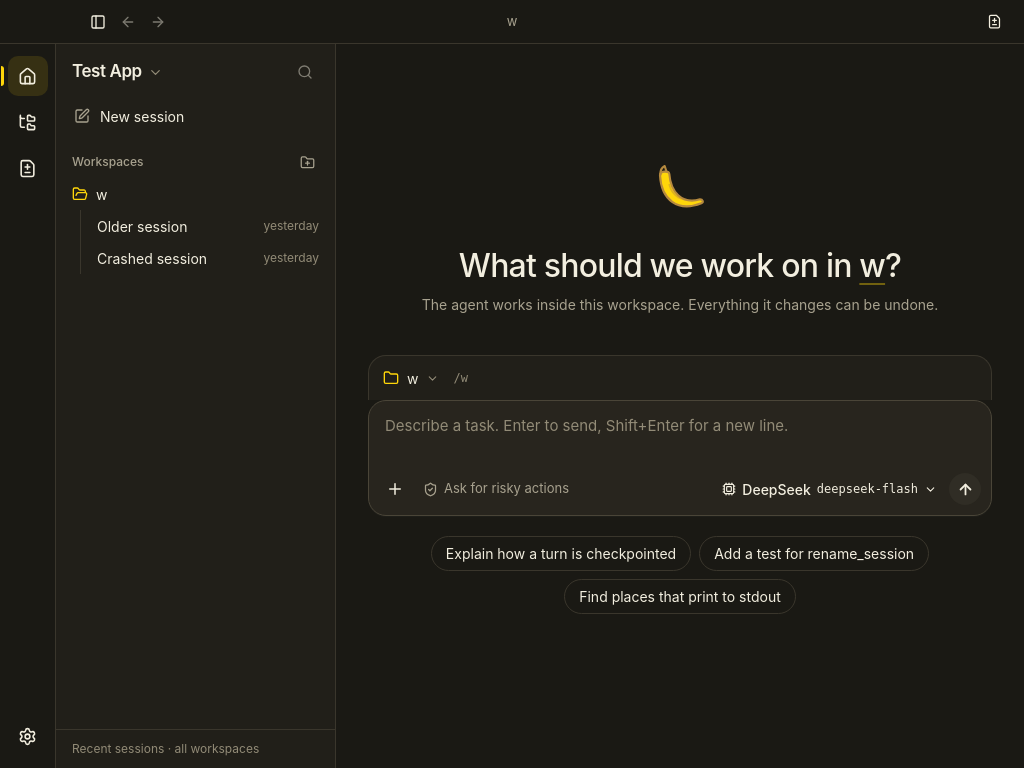
Test case: the first turn from home › a failed turn shows its error, and a 401 adds the hint to switch provider
Check: the text "Older session" is shown, box [97, 218, 187, 234]
Type "hi" into the text box labelled "task". click: x=680, y=435
box: [369, 401, 991, 469]
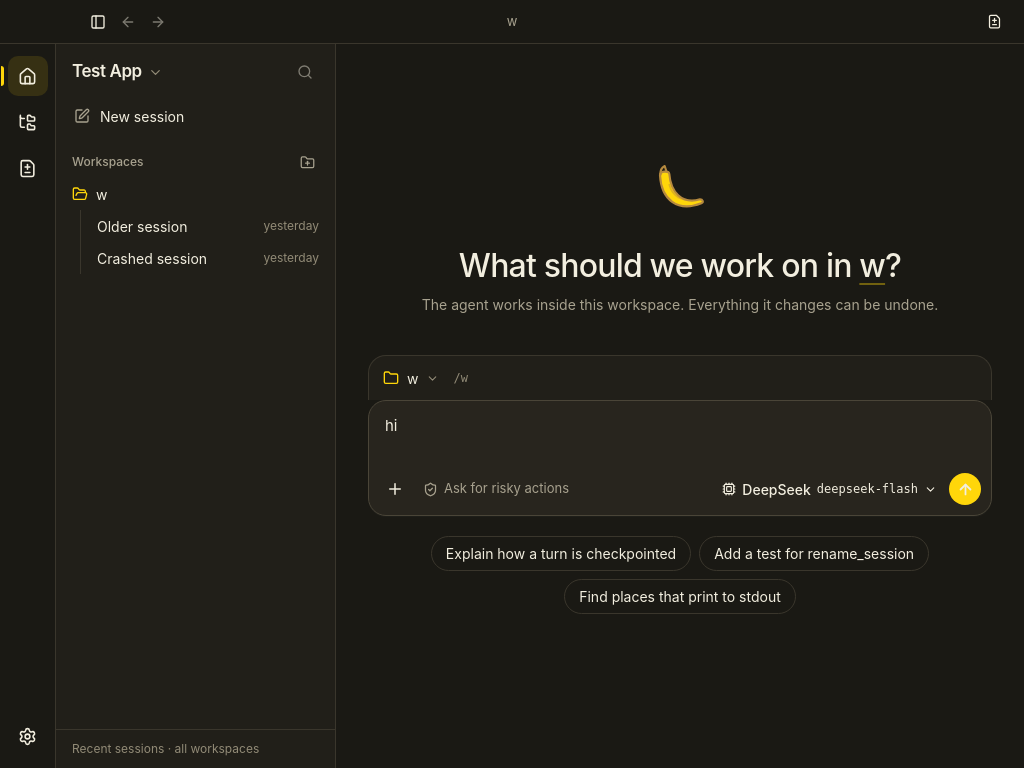
Click the button named "Send". click: x=965, y=489
box: [949, 473, 981, 505]
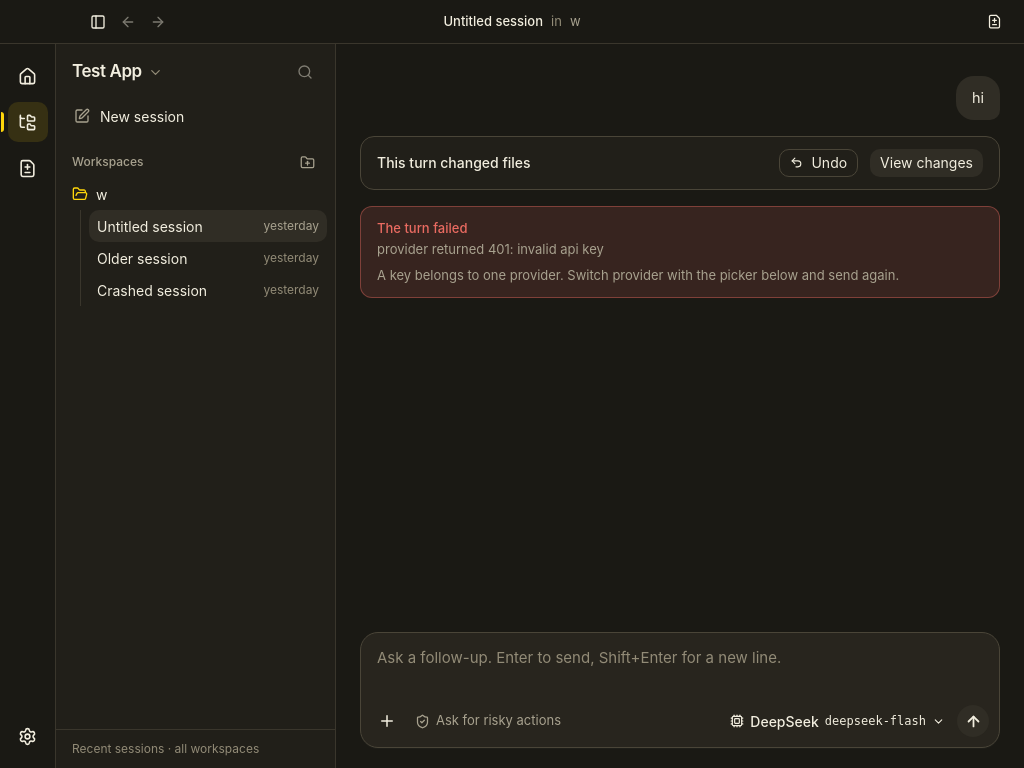
Check: the text "The turn failed" is shown, box [377, 220, 468, 236]
Check: the text "provider returned 401: invalid api key" is shown, box [377, 241, 604, 257]
Check: the text "Switch provider with the picker" is shown, box [377, 267, 899, 283]
